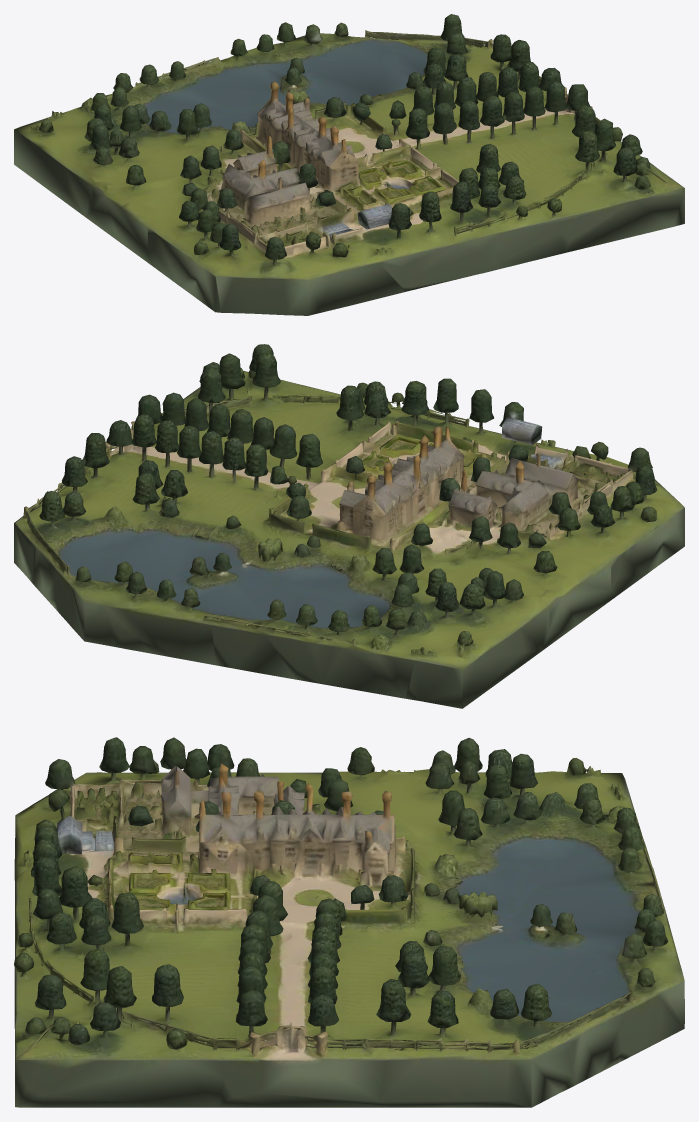
Rendered from home-estate-hf.glb.
3 renders of one model, top to bottom at view 1: azimuth 30°, elevation 25°; view 2: azimuth 150°, elevation 25°; view 3: azimuth 270°, elevation 25°, orthographic. The views are drawn at different scales.
Parts seen in each view (by area): view 1: tripo_node_981a54a0-5ab4-4e0d-8fb0-f377296b5f70; view 2: tripo_node_981a54a0-5ab4-4e0d-8fb0-f377296b5f70; view 3: tripo_node_981a54a0-5ab4-4e0d-8fb0-f377296b5f70.
Boxes of the visible parts, bbox=[...] form: tripo_node_981a54a0-5ab4-4e0d-8fb0-f377296b5f70: bbox=[14, 14, 684, 315]; tripo_node_981a54a0-5ab4-4e0d-8fb0-f377296b5f70: bbox=[14, 344, 684, 708]; tripo_node_981a54a0-5ab4-4e0d-8fb0-f377296b5f70: bbox=[14, 737, 684, 1107].
Bounding box in the file's own units: 0.9999 × 0.23 × 0.9853.
Materials: 1 (1 with a texture image).
